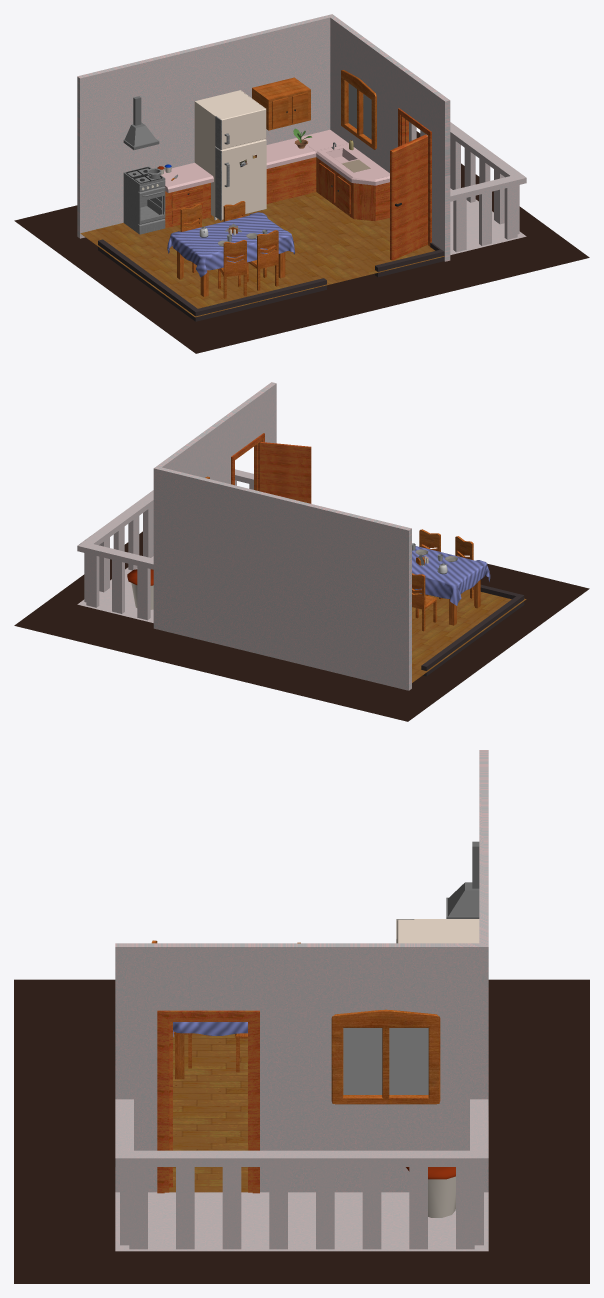
Rendered from kitchen.obj.
3 views of the same model, one above another, from view 1: azimuth 30°, elevation 25°; view 2: azimuth 150°, elevation 25°; view 3: azimuth 270°, elevation 25° (orthographic). The views are drawn at different scales.
Visible parts, largest first — view 1: Room_Plane.003, Ground_Plane.004, Room.001_Plane.014, Worktop_Plane.007, Fridge_Cube, Fence_Plane.018, Door.001_Plane.011, Mat_Plane.008, Cooker_Plane, Overhead_cupboard_Plane.010, Window_1.001_Plane.006, Room.002_Plane.015 (+5 smaller); view 2: Room_Plane.003, Ground_Plane.004, Fence_Plane.018, Room.001_Plane.014, Door.001_Plane.011, Mat_Plane.008, Room.002_Plane.015, Chair.001_Plane.002; view 3: Ground_Plane.004, Room_Plane.003, Fence_Plane.018, Room.002_Plane.015, Window_1.001_Plane.006, Room.001_Plane.014, Door.001_Plane.011, Fridge_Cube, Cooker.001_Plane.021, Trash_Circle.006, Mat_Plane.008.
Boxes of the visible parts, x1,y1,x2,y2 form: Room_Plane.003: [77, 14, 450, 321]; Ground_Plane.004: [14, 131, 589, 353]; Room.001_Plane.014: [80, 192, 444, 317]; Worktop_Plane.007: [161, 129, 389, 228]; Fridge_Cube: [194, 90, 266, 220]; Fence_Plane.018: [409, 122, 526, 252]; Door.001_Plane.011: [390, 108, 431, 260]; Mat_Plane.008: [167, 212, 295, 277]; Cooker_Plane: [123, 166, 165, 234]; Overhead_cupboard_Plane.010: [252, 77, 310, 130]; Window_1.001_Plane.006: [341, 70, 376, 149]; Room.002_Plane.015: [450, 188, 526, 254]; Room_Plane.003: [153, 382, 524, 690]; Ground_Plane.004: [14, 531, 589, 721]; Fence_Plane.018: [77, 469, 253, 620]; Room.001_Plane.014: [412, 589, 526, 682]; Door.001_Plane.011: [231, 433, 311, 503]; Mat_Plane.008: [412, 546, 490, 605]; Room.002_Plane.015: [77, 556, 153, 622]; Chair.001_Plane.002: [412, 573, 436, 631]; Ground_Plane.004: [14, 979, 589, 1283]; Room_Plane.003: [115, 750, 488, 1192]; Fence_Plane.018: [115, 1099, 488, 1249]; Room.002_Plane.015: [115, 1192, 488, 1251]; Window_1.001_Plane.006: [331, 1009, 440, 1104]; Room.001_Plane.014: [169, 1033, 247, 1192]; Door.001_Plane.011: [157, 1010, 259, 1193]; Fridge_Cube: [396, 919, 479, 943]; Cooker.001_Plane.021: [446, 841, 479, 918]; Trash_Circle.006: [406, 1167, 455, 1217]; Mat_Plane.008: [173, 1022, 247, 1036].
Size of the model in its own units: 77.2 by 30 by 61.76.
25 materials, 18 textured.
